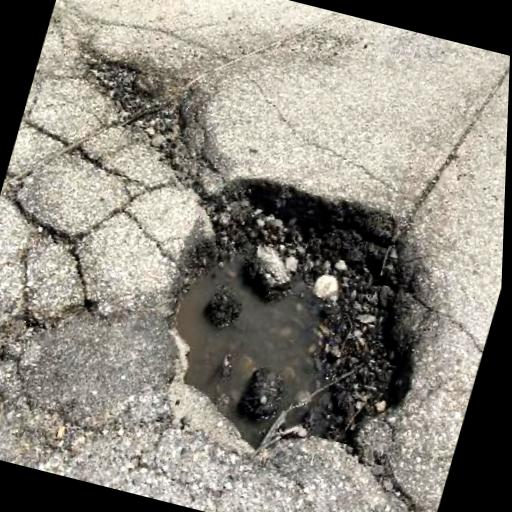pothole: (124, 156, 466, 484), (55, 44, 231, 186)
